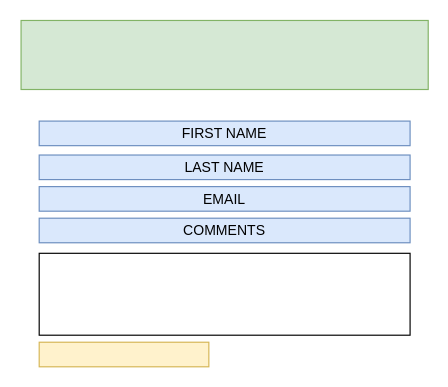
The diagram is 448 pixels wide and 387 high, and some of its shapes have lost their labels. Here are the shapes that lost their labels. From the top down, the centre of each, then its label:
(224,54): Contact Us
(123,354): SUBMIT
